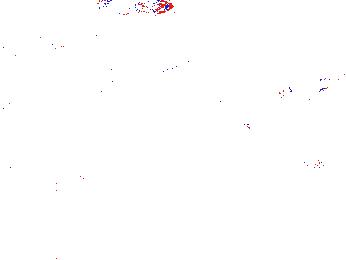red belly glassfish: (286, 158, 324, 173), (238, 119, 263, 135)
redtail glassfish: (1, 30, 86, 62), (194, 81, 265, 117), (107, 54, 190, 84), (279, 67, 346, 103), (93, 1, 174, 16)
